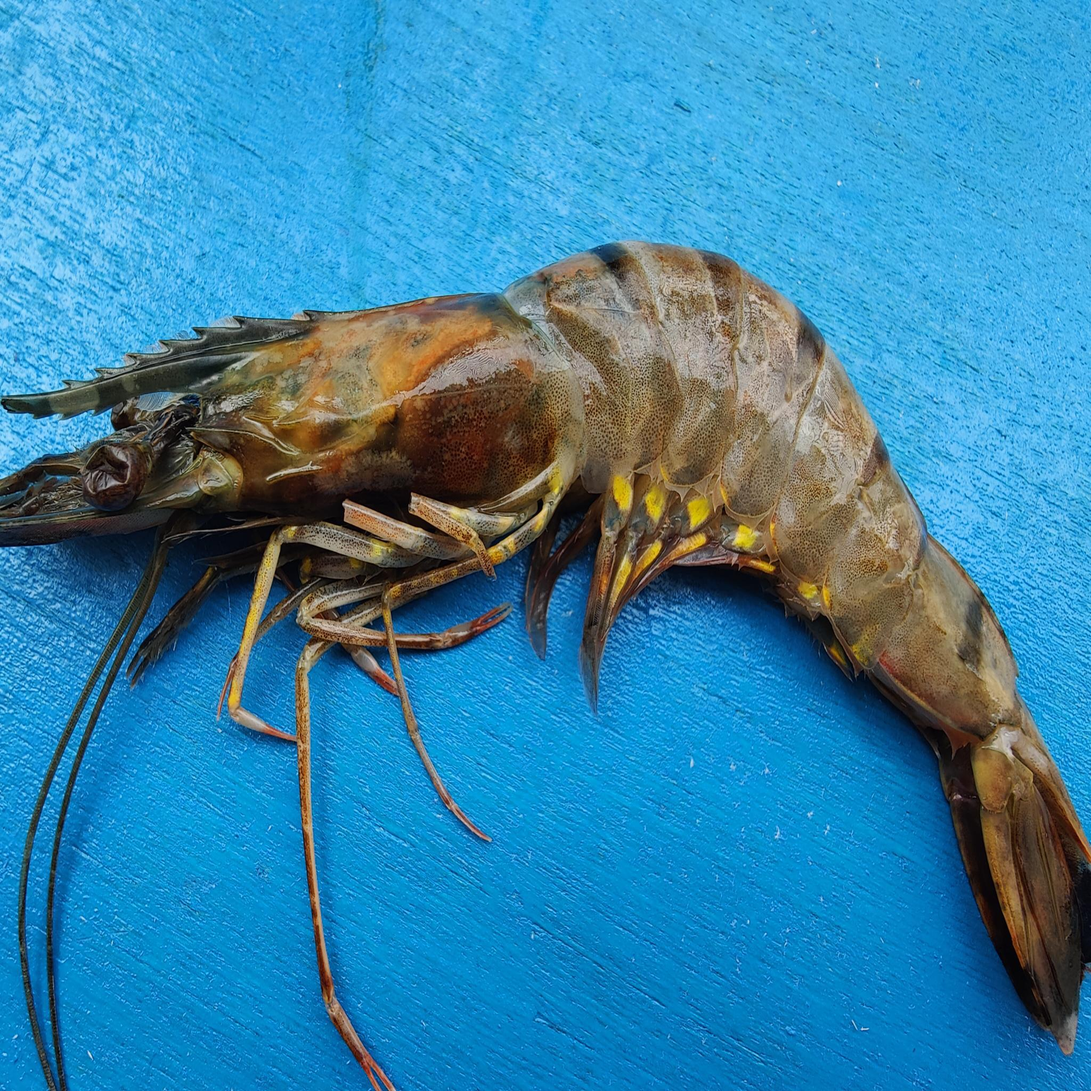whitespot: (407, 334, 548, 470), (311, 445, 422, 498), (247, 341, 338, 393)
